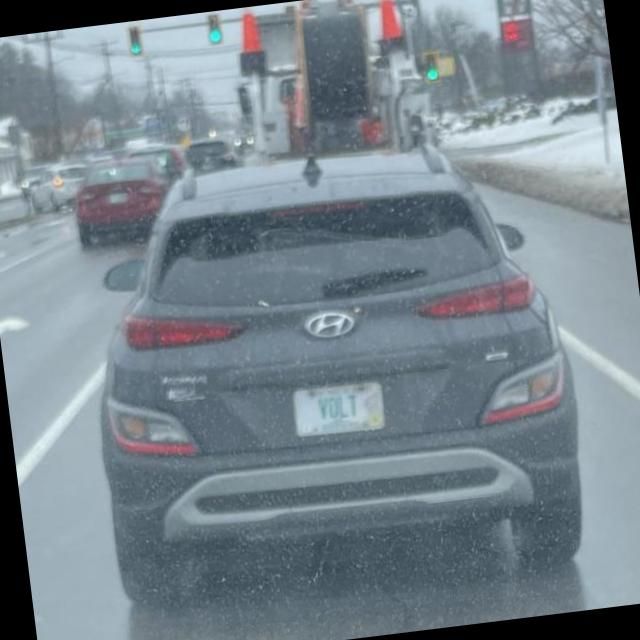LicensePlate: (290, 382, 387, 438)
